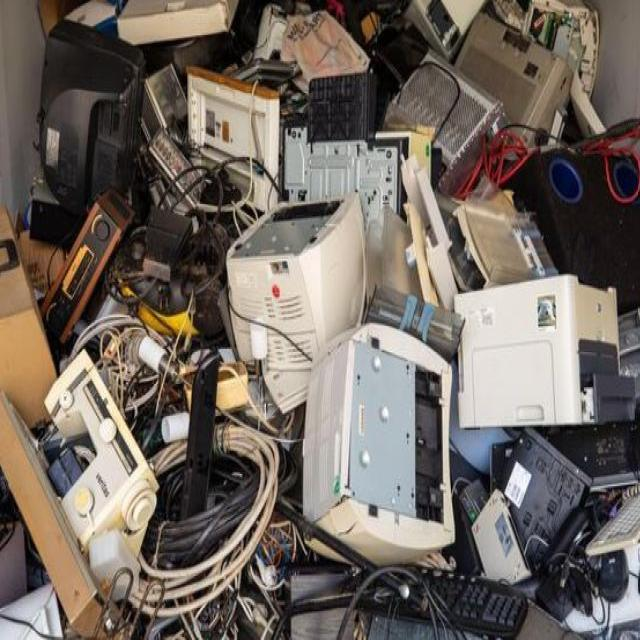electronic: (266, 280, 462, 567), (432, 258, 640, 497), (20, 340, 161, 636), (203, 178, 382, 401), (25, 11, 165, 287), (18, 166, 161, 411), (173, 35, 289, 274), (380, 30, 502, 256), (447, 4, 575, 194), (267, 93, 417, 247)
